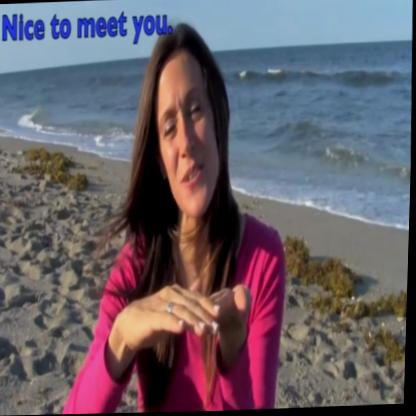NiceToMeetYou: (113, 253, 263, 364)
